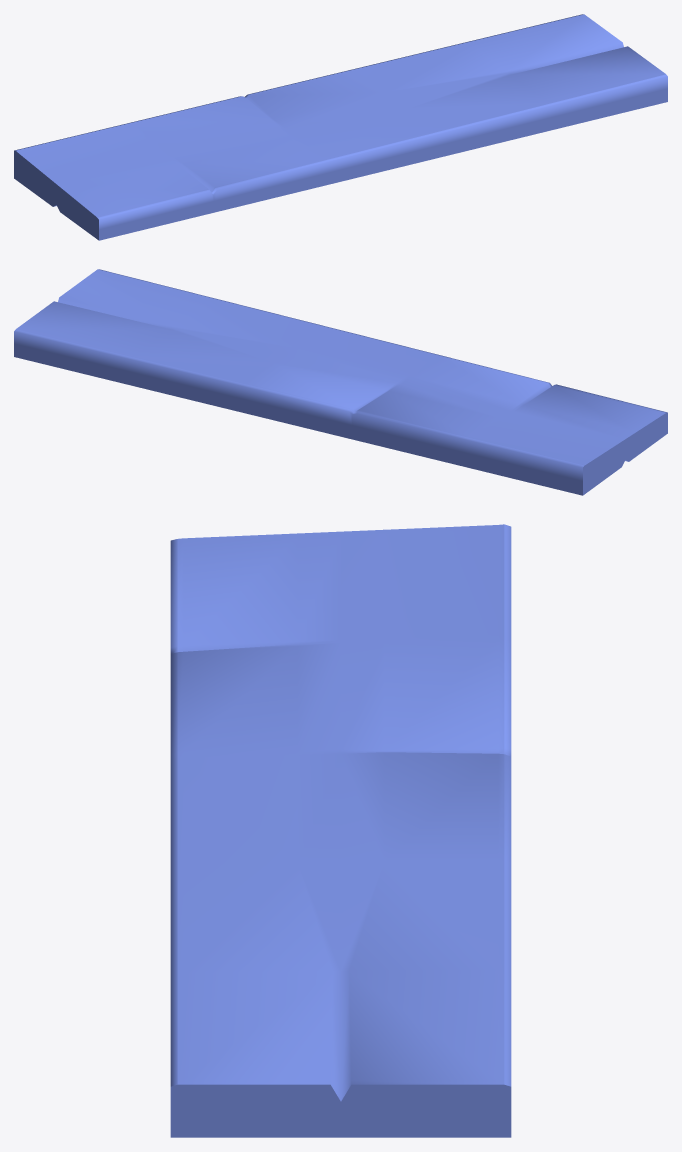
The model's file is woodplank.FBX.
3 renders of one model, top to bottom at view 1: azimuth 30°, elevation 25°; view 2: azimuth 150°, elevation 25°; view 3: azimuth 270°, elevation 25°, orthographic. The views are drawn at different scales.
Parts seen in each view (by area): view 1: Box002; view 2: Box002; view 3: Box002.
Part boxes in pixels (left/top/right/bottom): Box002: left=14, top=14, right=667, bottom=240; Box002: left=14, top=269, right=667, bottom=495; Box002: left=170, top=524, right=511, bottom=1137.
Bounding box in the file's own units: 53.18 × 2.62 × 13.78.
